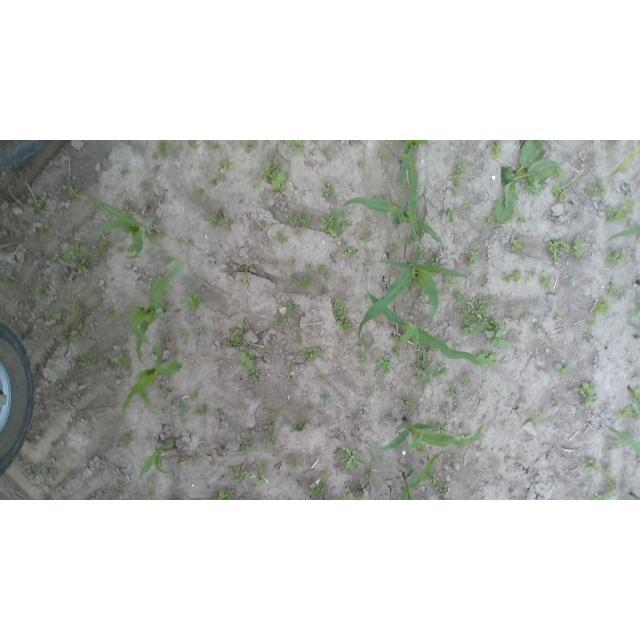Maize: (356, 248, 470, 341), (365, 290, 494, 366), (127, 258, 186, 365), (342, 195, 447, 250), (81, 194, 163, 261), (120, 342, 192, 415), (366, 416, 485, 457), (394, 141, 431, 252), (393, 452, 442, 500), (137, 437, 179, 481), (607, 140, 640, 178), (604, 425, 640, 454), (603, 224, 640, 244)
Weeds: (489, 140, 561, 225), (23, 180, 59, 217), (546, 236, 587, 264), (52, 242, 91, 271), (319, 207, 351, 238), (481, 314, 508, 350), (260, 160, 289, 193), (281, 210, 313, 239), (586, 295, 614, 327), (238, 351, 265, 383), (448, 161, 470, 199), (605, 197, 637, 223), (330, 300, 354, 333), (335, 445, 364, 472), (224, 319, 248, 350), (582, 176, 608, 201), (577, 378, 598, 408), (41, 309, 66, 333), (233, 260, 253, 289), (468, 294, 488, 322), (207, 204, 227, 230), (34, 280, 57, 302), (228, 464, 252, 485), (299, 345, 324, 365), (472, 348, 498, 367), (184, 292, 207, 313), (374, 352, 394, 376), (604, 246, 629, 265), (70, 299, 86, 328), (616, 403, 640, 421), (47, 361, 68, 381), (52, 325, 70, 348), (74, 354, 100, 369), (256, 461, 271, 486), (460, 318, 482, 335), (212, 486, 238, 500), (432, 483, 453, 500), (113, 350, 134, 367), (415, 347, 431, 368), (488, 141, 504, 162), (606, 285, 628, 300), (580, 458, 600, 474), (308, 484, 328, 500), (427, 423, 453, 435), (320, 180, 336, 199), (625, 385, 640, 405), (270, 315, 294, 327), (432, 361, 448, 379), (508, 235, 524, 253), (551, 184, 567, 202), (343, 244, 361, 260), (35, 221, 51, 239), (605, 477, 618, 499), (239, 440, 258, 455), (319, 388, 333, 408), (286, 456, 302, 473), (416, 369, 434, 384), (501, 269, 519, 284), (287, 140, 306, 154), (526, 185, 546, 198), (68, 186, 84, 202), (443, 207, 458, 224), (553, 362, 571, 376), (443, 277, 462, 290), (425, 251, 441, 266), (273, 229, 289, 244), (159, 141, 173, 158), (538, 275, 553, 290), (467, 251, 482, 266), (447, 382, 461, 398), (242, 140, 258, 154), (317, 144, 331, 159), (194, 403, 209, 417), (318, 264, 331, 280), (358, 229, 375, 241), (121, 431, 132, 449), (105, 306, 118, 321), (176, 401, 189, 416), (264, 437, 279, 450), (143, 484, 155, 500), (286, 255, 299, 269), (459, 198, 473, 211), (220, 157, 233, 171), (607, 440, 622, 452), (513, 212, 528, 224), (266, 147, 281, 159), (176, 236, 192, 247), (222, 216, 233, 232), (35, 491, 54, 500), (299, 275, 312, 288), (206, 176, 220, 188), (0, 270, 12, 284), (526, 267, 537, 282), (286, 300, 298, 313), (428, 472, 441, 484), (178, 327, 191, 339), (364, 470, 376, 483), (233, 412, 246, 424), (293, 419, 306, 431), (450, 292, 464, 303), (408, 279, 419, 293), (392, 333, 406, 344), (462, 371, 473, 385), (205, 141, 219, 152), (188, 391, 202, 402), (582, 330, 594, 342), (186, 140, 202, 149), (162, 254, 174, 266), (98, 240, 110, 252), (320, 470, 332, 482), (264, 419, 276, 431), (337, 337, 348, 350), (315, 371, 328, 382), (359, 353, 370, 366), (602, 465, 613, 478), (553, 311, 566, 322), (156, 225, 167, 238), (199, 325, 210, 338), (594, 492, 611, 500), (456, 306, 468, 317), (288, 274, 299, 286), (304, 265, 316, 276), (119, 335, 130, 347), (403, 399, 416, 409), (110, 483, 123, 493), (305, 404, 316, 415), (405, 235, 416, 246), (391, 345, 401, 357), (446, 451, 456, 463), (250, 179, 260, 191), (341, 488, 351, 500), (113, 243, 125, 253), (91, 492, 106, 500), (566, 276, 579, 285), (122, 198, 131, 211), (354, 491, 367, 500), (285, 474, 298, 483), (485, 214, 496, 224), (553, 169, 564, 179), (389, 242, 400, 252), (377, 150, 388, 160), (357, 158, 368, 168), (195, 186, 206, 196), (65, 471, 76, 481), (443, 154, 455, 163), (239, 401, 247, 414), (285, 376, 295, 386), (538, 408, 548, 418), (605, 142, 615, 152), (282, 415, 292, 425), (92, 251, 102, 261), (72, 336, 82, 346), (42, 468, 52, 478), (489, 294, 498, 305), (534, 324, 543, 335), (418, 229, 427, 240), (240, 431, 251, 440), (382, 189, 390, 201), (365, 387, 373, 399), (390, 216, 402, 224), (403, 196, 410, 209), (8, 487, 21, 494), (413, 246, 423, 255), (240, 308, 249, 318), (102, 356, 111, 366), (172, 347, 181, 357), (318, 286, 329, 294), (579, 484, 590, 492), (509, 306, 520, 314), (527, 434, 536, 443), (530, 414, 539, 423), (367, 452, 376, 461), (264, 407, 273, 416), (341, 277, 351, 285), (296, 336, 306, 344), (223, 351, 231, 361), (351, 140, 364, 146), (403, 379, 412, 387), (259, 218, 267, 227), (103, 183, 112, 191), (200, 171, 210, 178), (52, 469, 59, 479), (158, 407, 168, 414), (307, 455, 314, 465), (458, 421, 466, 429), (501, 420, 509, 428), (267, 221, 275, 229), (180, 418, 188, 426), (360, 370, 367, 379), (553, 477, 560, 486), (587, 475, 594, 484), (196, 455, 205, 462), (120, 167, 127, 176), (63, 430, 70, 439), (399, 458, 406, 466), (423, 406, 431, 413), (412, 394, 419, 402), (32, 434, 40, 441), (271, 413, 279, 420), (379, 417, 385, 426), (480, 280, 486, 288), (392, 199, 400, 205), (483, 397, 489, 404), (128, 369, 133, 377), (17, 496, 27, 500), (574, 496, 583, 500)
